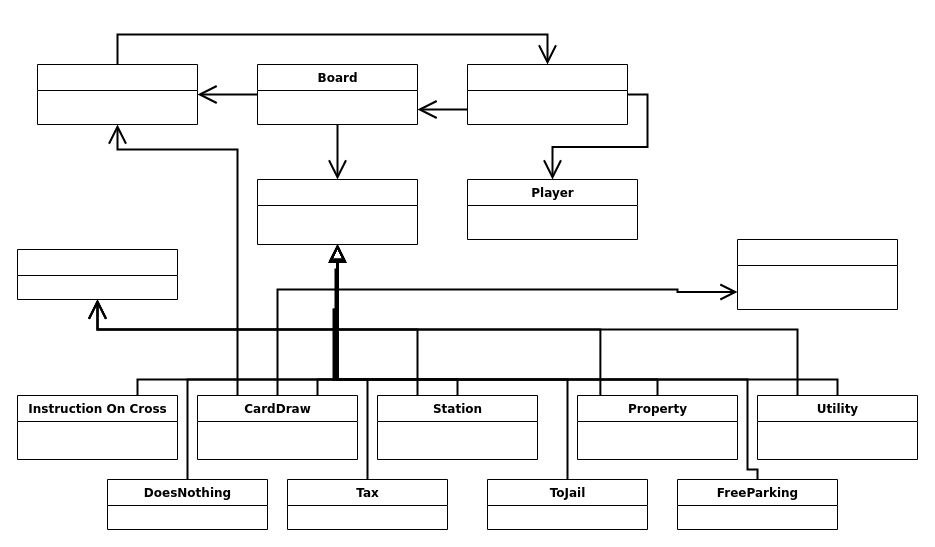
Some shapes in this 935 by 547 pixel diagram are drawn without their labels. The shapes that lost their labels are listed below. From the top down, each one's centre as x and y in pixels, then its label:
[117,94]: Card
[547,94]: Game Master
[337,211]: <<Interface>> Tile
[97,274]: <<Enumeration>> Colours
[817,274]: <<Enumeration>> DrawTypes
